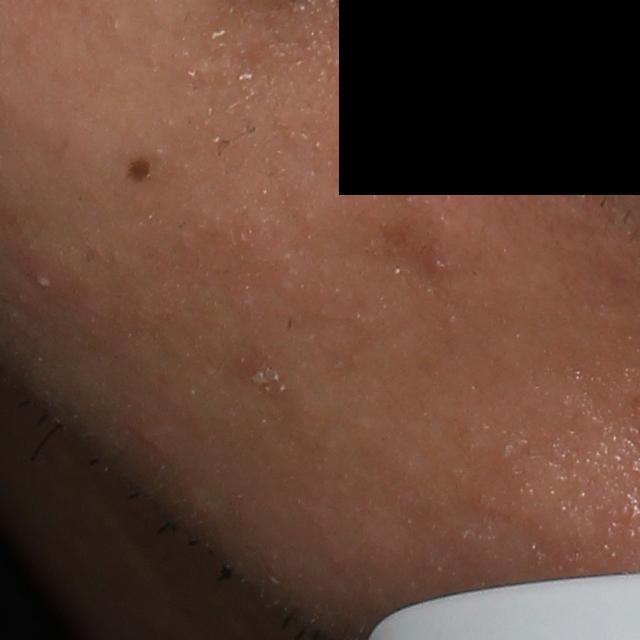nevus: (125, 155, 152, 184)
